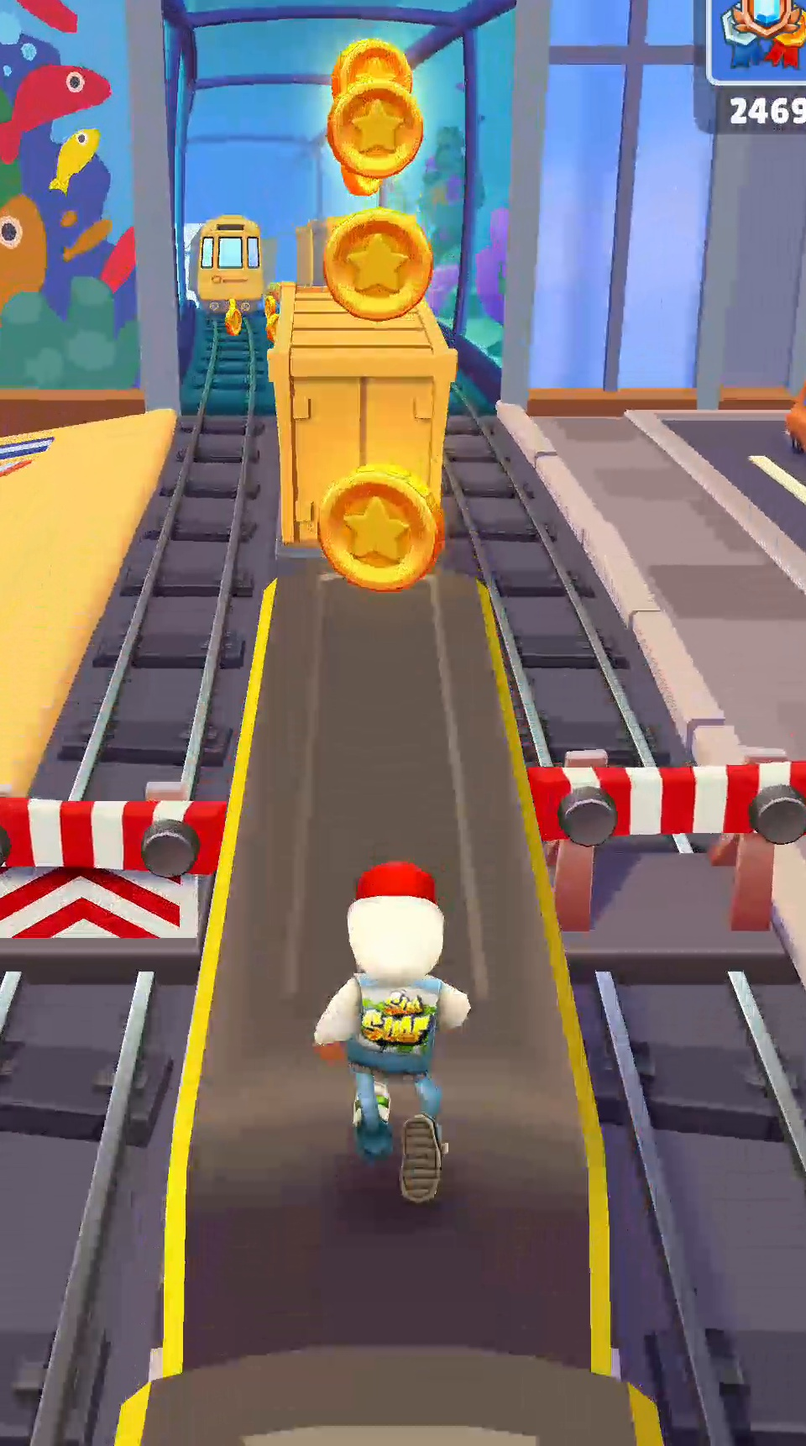blocker: (527, 750, 805, 931)
roll blocker: (0, 796, 225, 957)
train: (267, 283, 457, 547), (195, 215, 262, 312), (296, 220, 326, 287)
